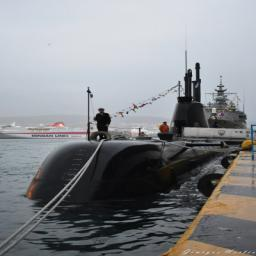submarine: (18, 55, 245, 208)
